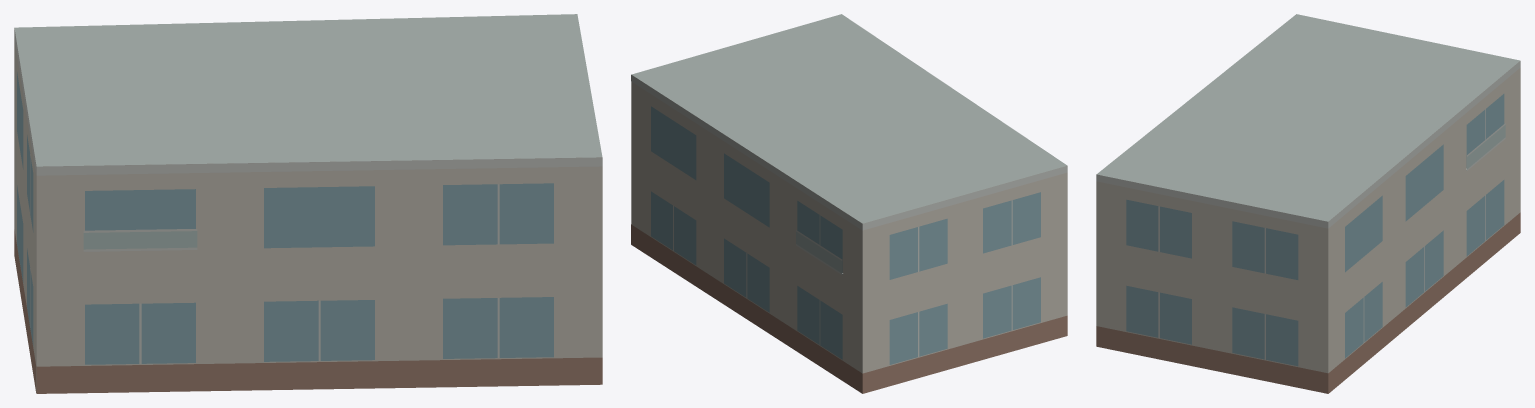
File: survey-upis-32933971.glb
3 renders of one model, left to right at view 1: azimuth 30°, elevation 25°; view 2: azimuth 150°, elevation 25°; view 3: azimuth 270°, elevation 25°, orthographic. The views are drawn at different scales.
Parts seen in each view (by area): view 1: survey-upis-32933971.tmp; view 2: survey-upis-32933971.tmp; view 3: survey-upis-32933971.tmp.
Part boxes in pixels (x1,y1,x2,y2): survey-upis-32933971.tmp: [14, 14, 602, 393]; survey-upis-32933971.tmp: [631, 14, 1067, 393]; survey-upis-32933971.tmp: [1096, 14, 1520, 393].
Size of the model in its own units: 15.79 by 6.1 by 13.63.
